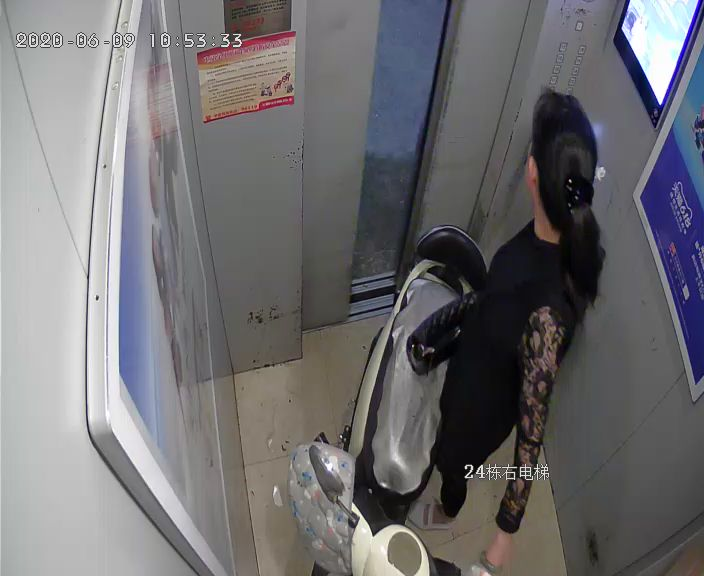Electric-bicycle: (336, 227, 478, 576)
